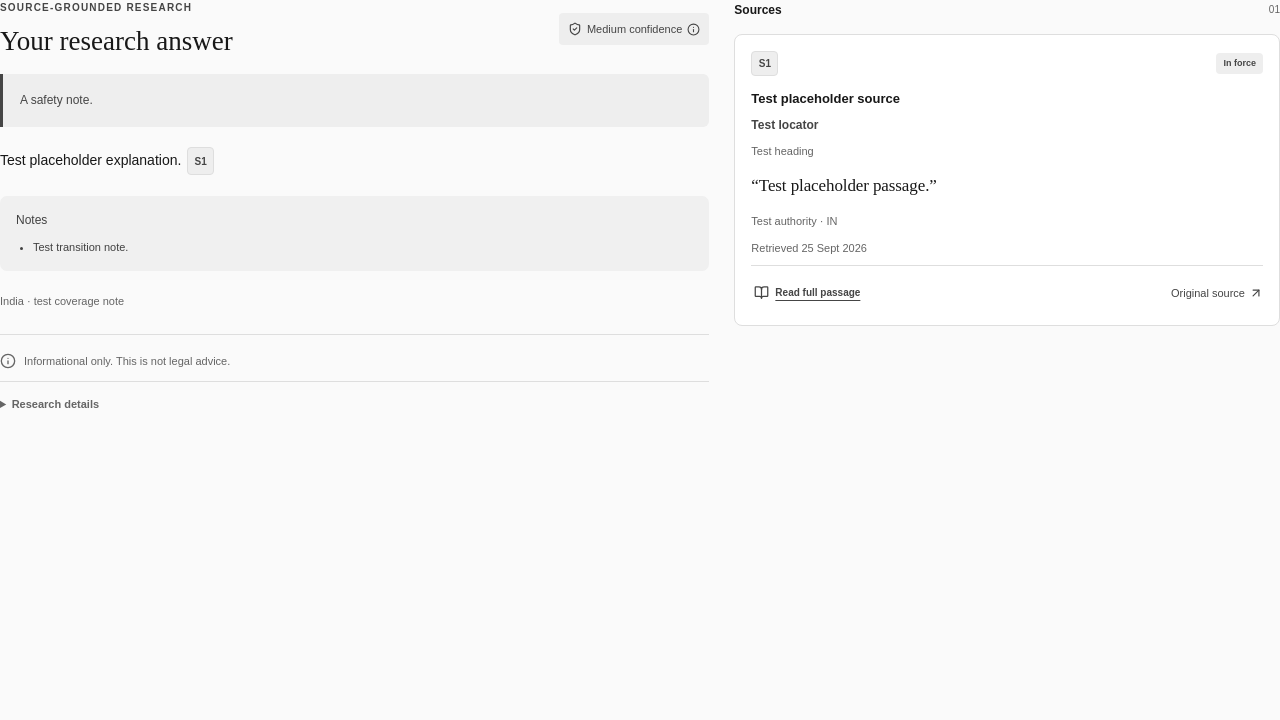
Scenario: full passage drawer › cancels a pending source fetch when the drawer is dismissed
This screenshot has width=1280, height=720.
Click the button "Read full passage": (807, 293) [751,277,863,309]
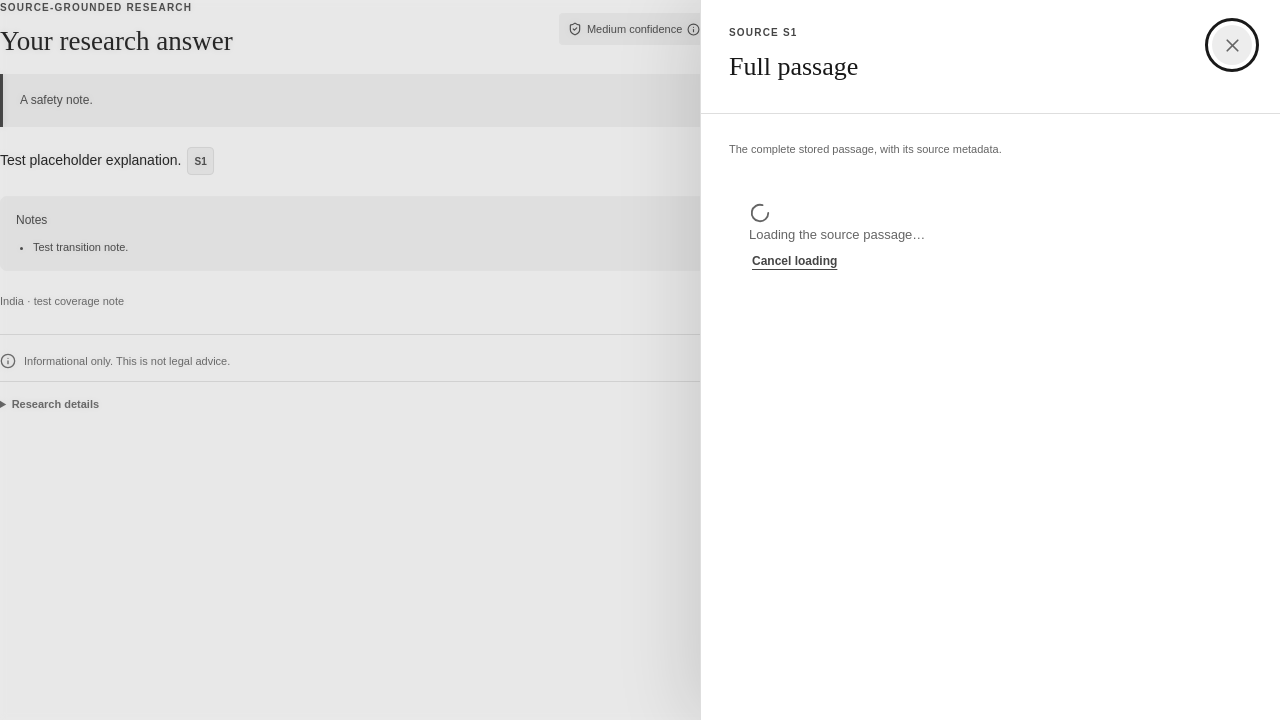
Click the button "Cancel loading": (795, 262) [749,245,840,279]
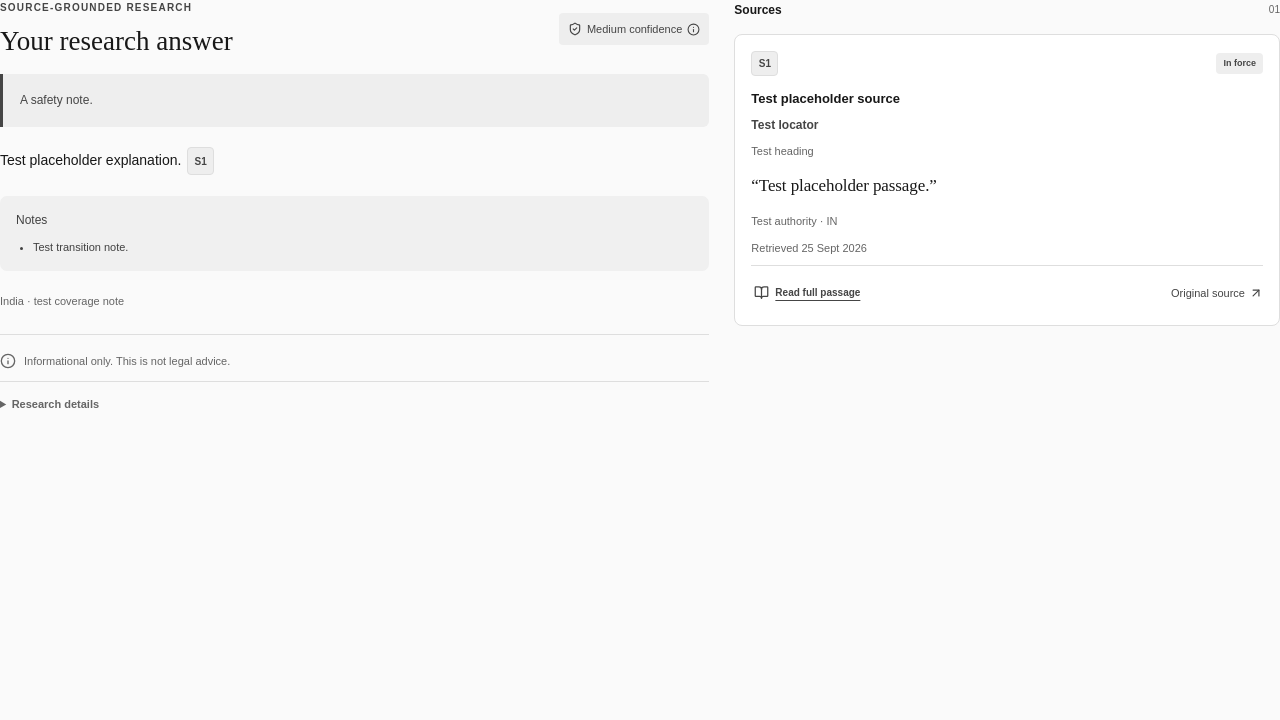
Expected: the dialog is gone
